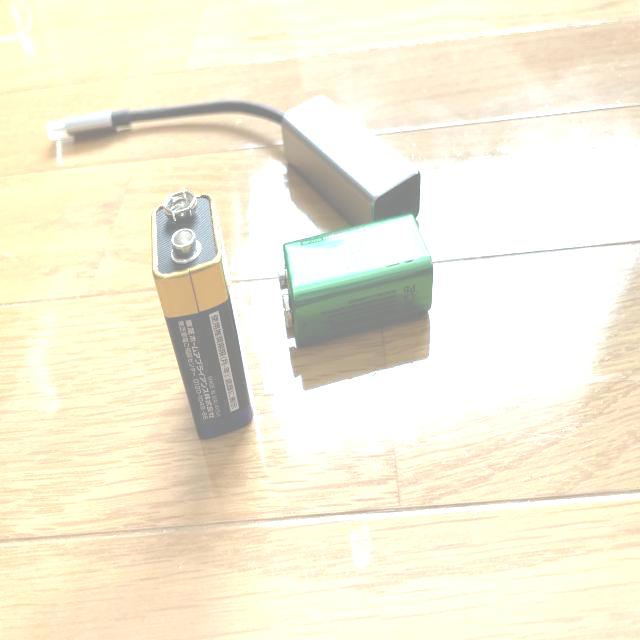9V: (149, 192, 255, 439), (279, 217, 433, 344)
